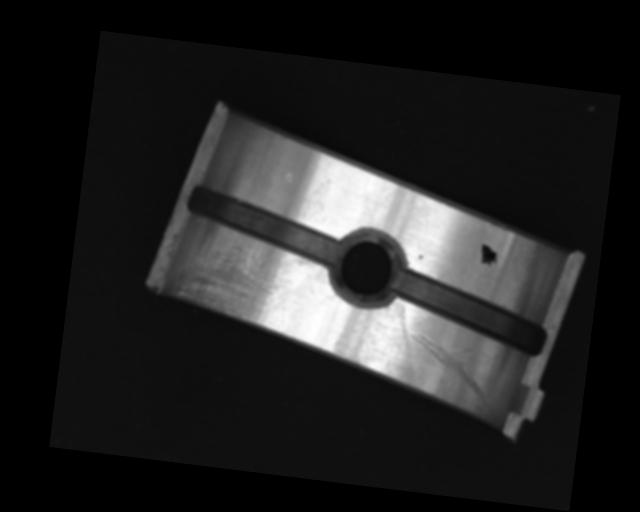blot: (479, 242, 499, 267)
bruise: (283, 171, 294, 184), (418, 254, 423, 259)
gap: (383, 266, 553, 355), (180, 184, 346, 266)
hole: (327, 226, 407, 311)
nick: (392, 325, 501, 415)
scratch: (165, 233, 317, 328)
